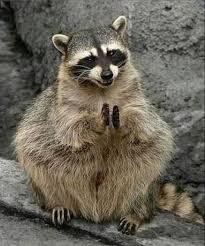raccoon: (11, 10, 187, 239)
